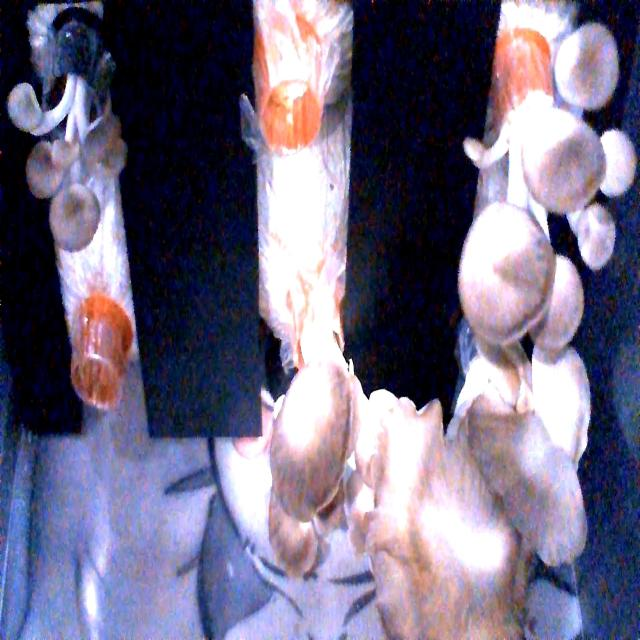big: (361, 354, 621, 640), (459, 16, 640, 362), (255, 328, 392, 582)
nfound: (252, 80, 324, 162), (79, 348, 135, 424)
small: (5, 76, 128, 242)
